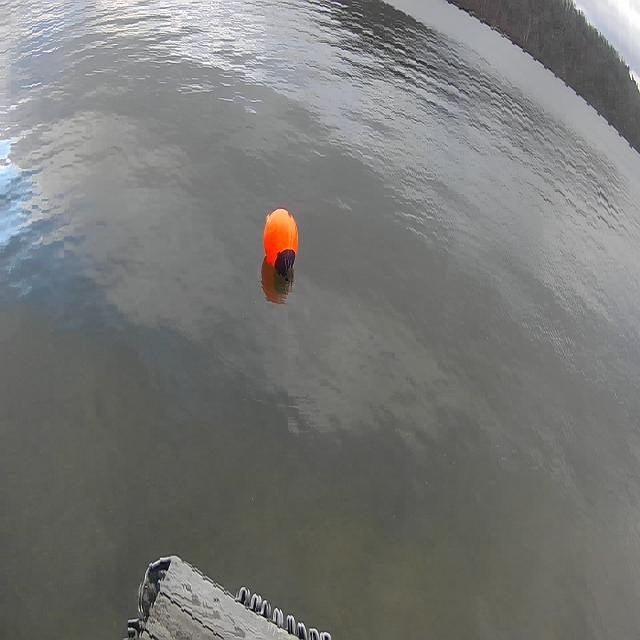Buoy: (262, 197, 304, 286)
